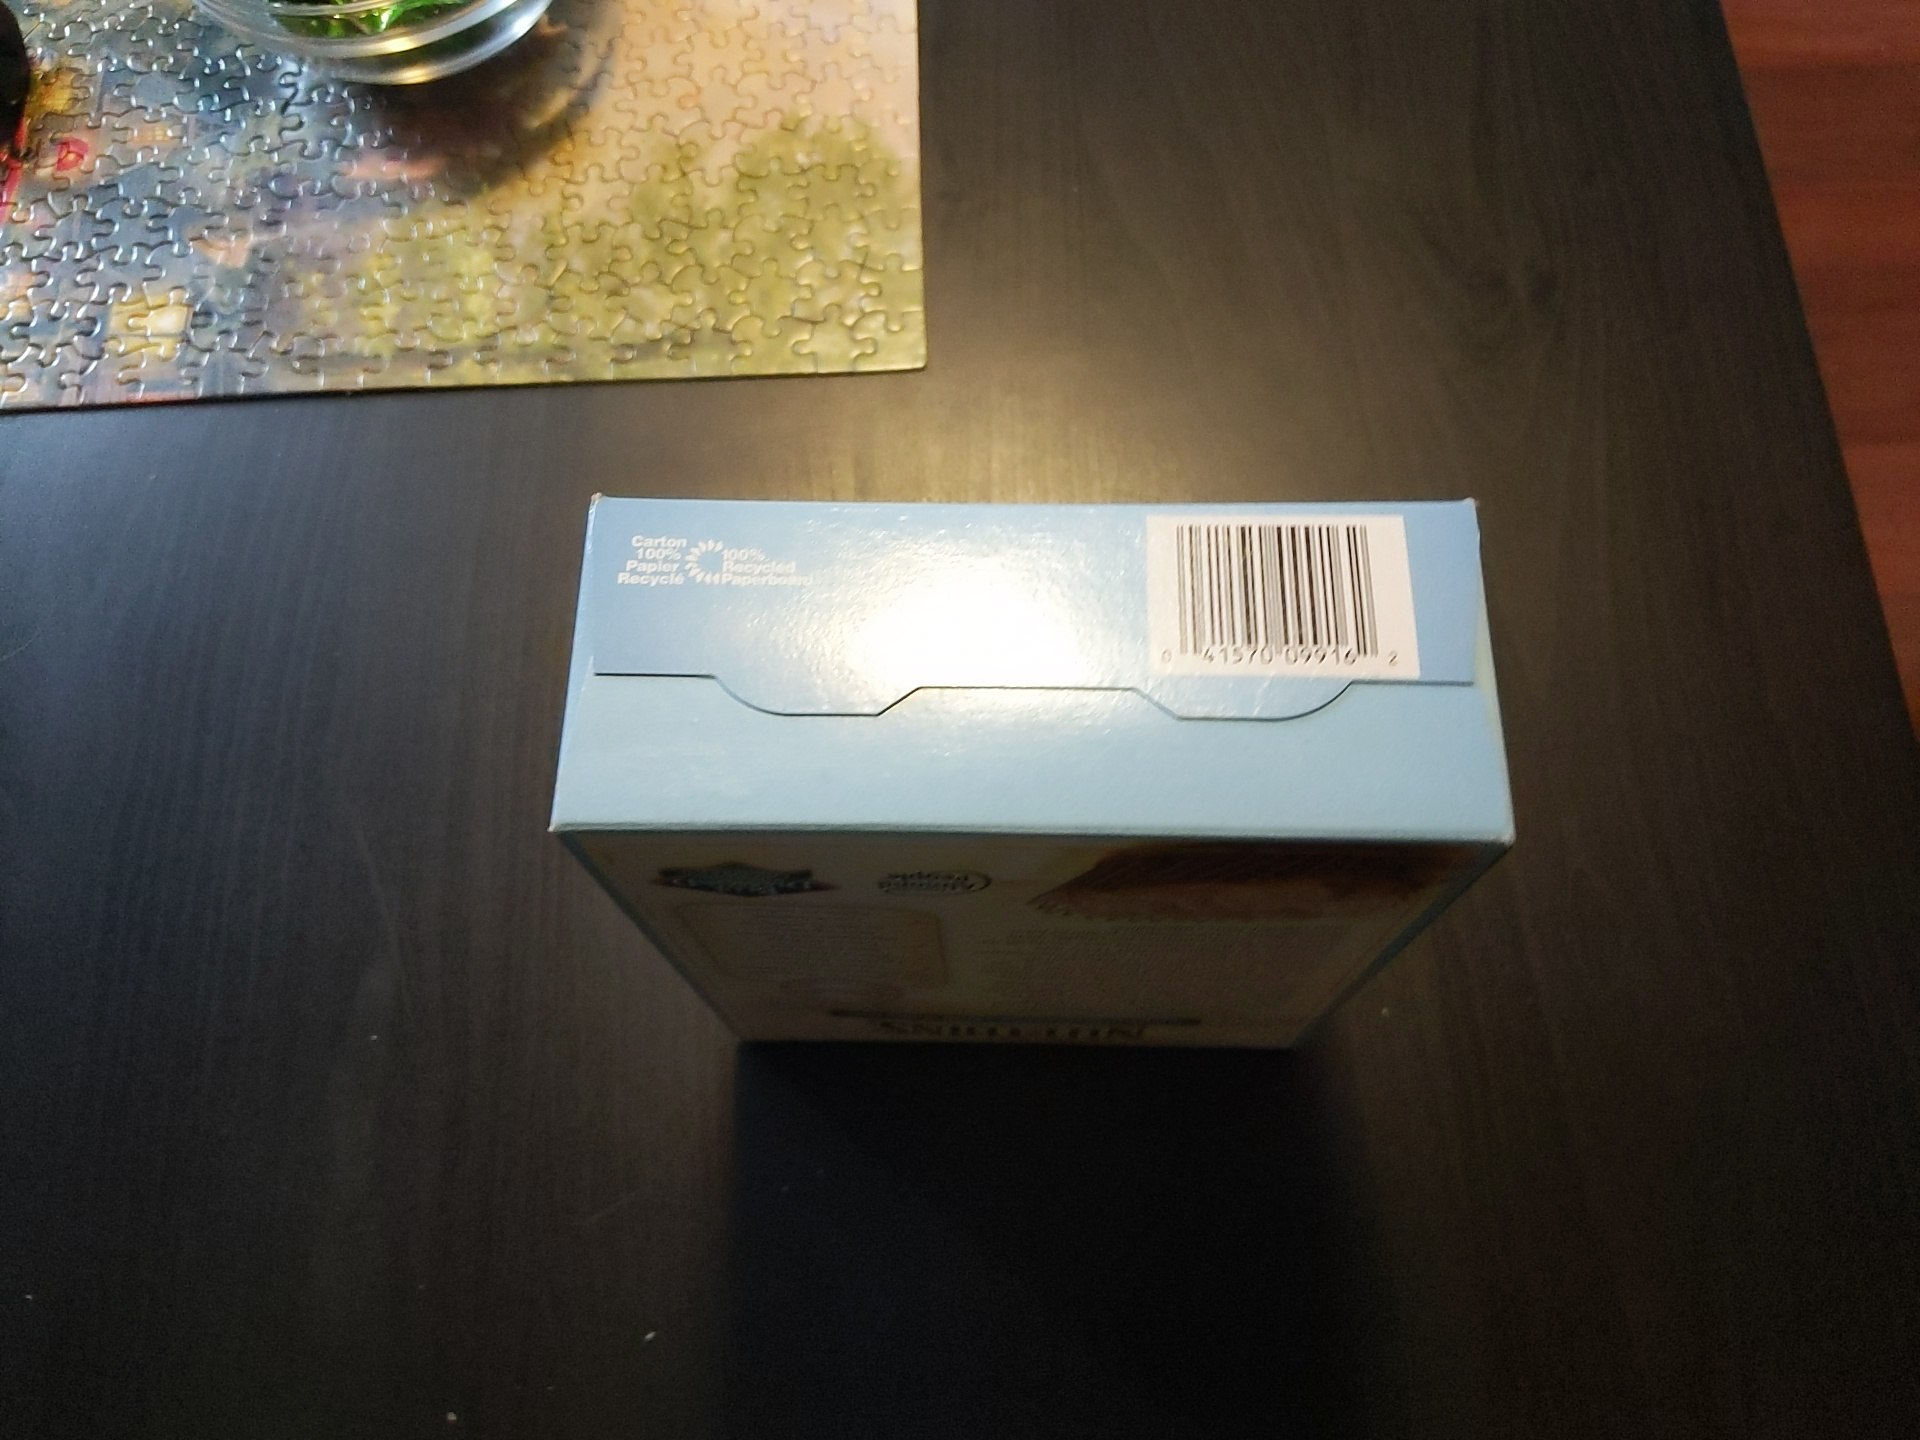blue_diamond_nut_thins_almond_seasalt: (581, 496, 1506, 1054)
